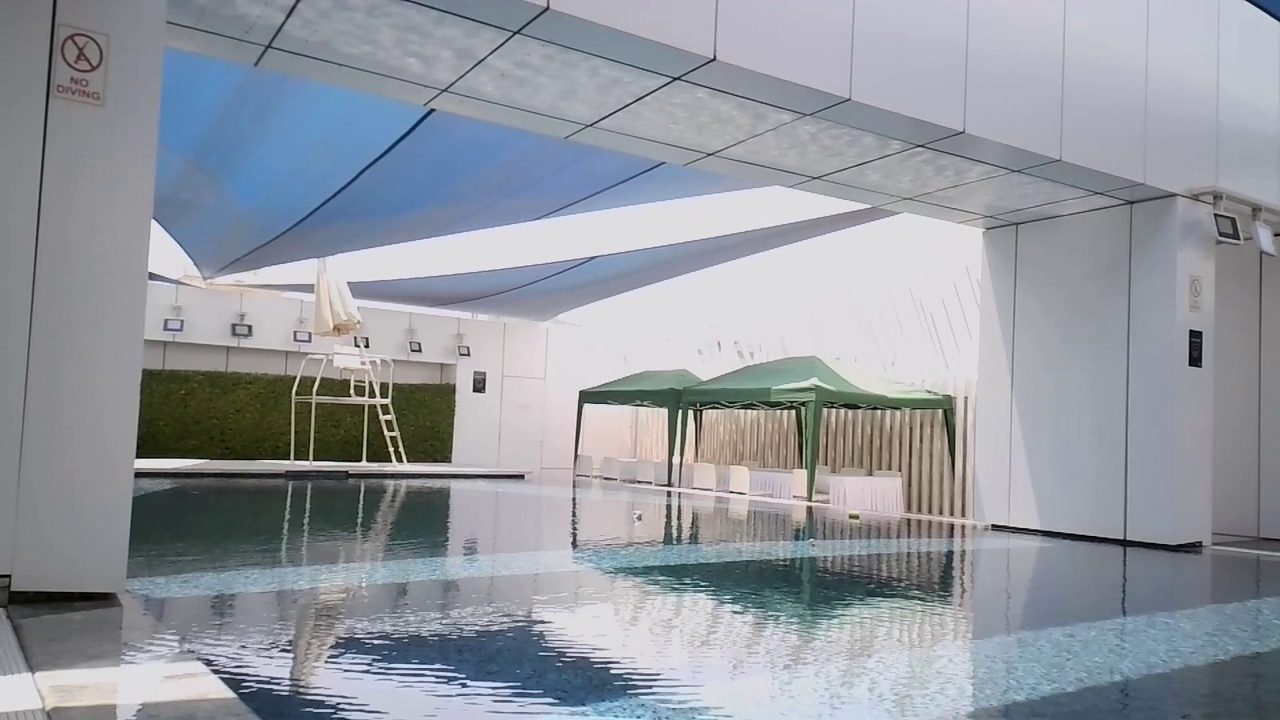debris: (630, 509, 646, 526), (846, 508, 862, 524), (804, 535, 818, 548)
